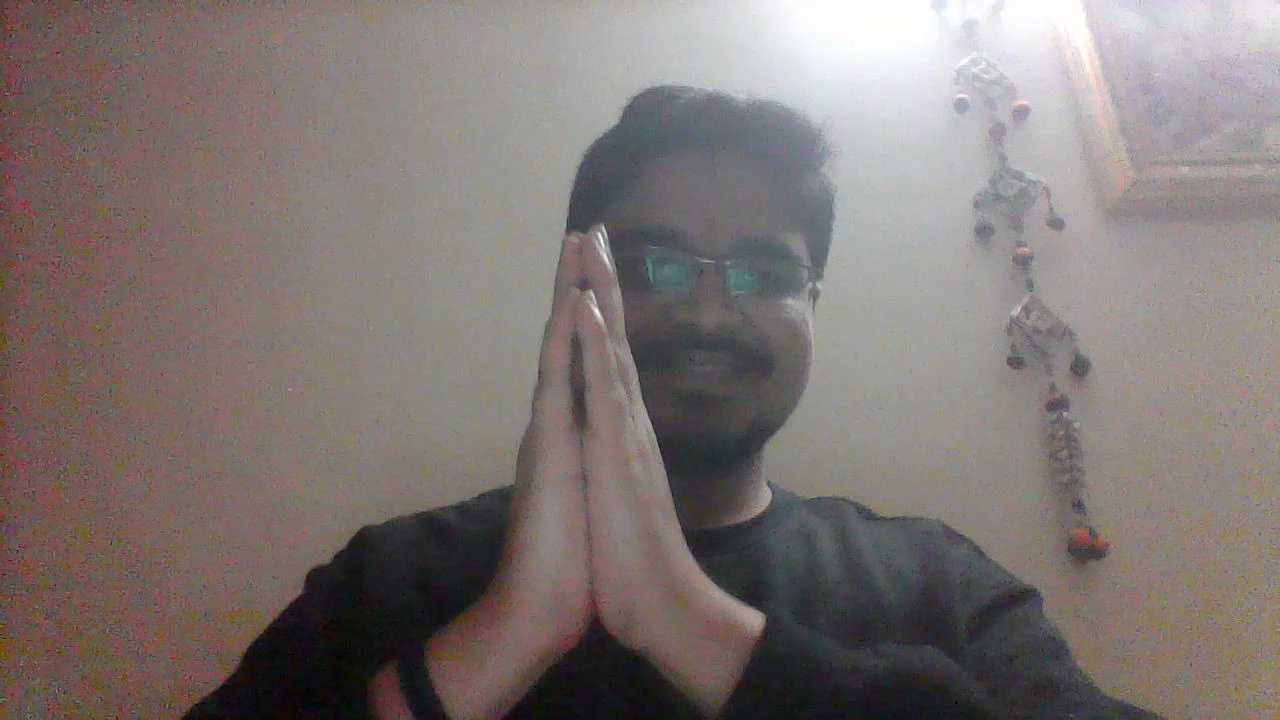Namaste: (456, 218, 711, 693)
